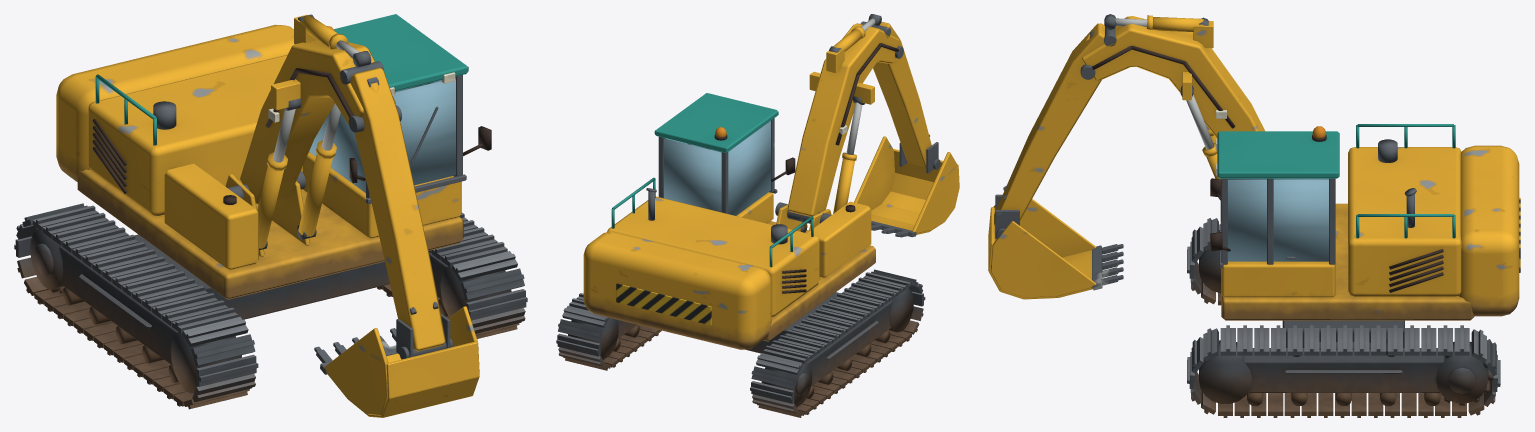
The model's file is Works_Excavator.fbx.
3 views of the same model, side by side, from view 1: azimuth 30°, elevation 25°; view 2: azimuth 150°, elevation 25°; view 3: azimuth 270°, elevation 25° (orthographic). The views are drawn at different scales.
Visible parts, largest first — view 1: Cab, Body, Boom, Arm, Bucket; view 2: Cab, Body, Boom, Bucket, Arm; view 3: Cab, Body, Boom, Bucket, Arm.
Boxes of the visible parts, x1,y1,x2,y2 form: Cab: (56, 14, 491, 299); Body: (14, 203, 527, 409); Boom: (228, 14, 401, 250); Arm: (340, 61, 445, 351); Bucket: (314, 306, 479, 417); Cab: (583, 93, 875, 349); Body: (556, 269, 925, 417); Boom: (775, 14, 903, 232); Bucket: (854, 136, 959, 237); Arm: (860, 21, 931, 167); Cab: (1210, 124, 1520, 320); Body: (1187, 218, 1500, 417); Boom: (1080, 14, 1264, 179); Bucket: (988, 194, 1123, 299); Arm: (994, 23, 1116, 226).
Bounding box in the file's own units: 3.88 × 4.26 × 6.52.
Materials: 1 (1 with a texture image).
